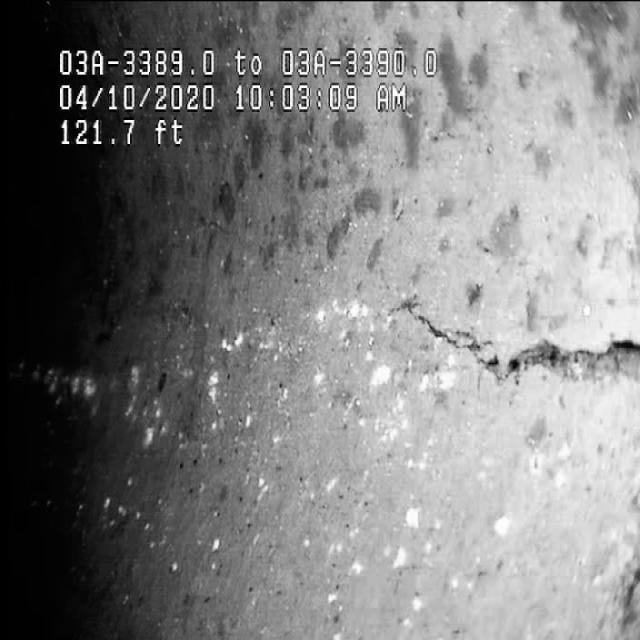Crack: (315, 246, 639, 422)
